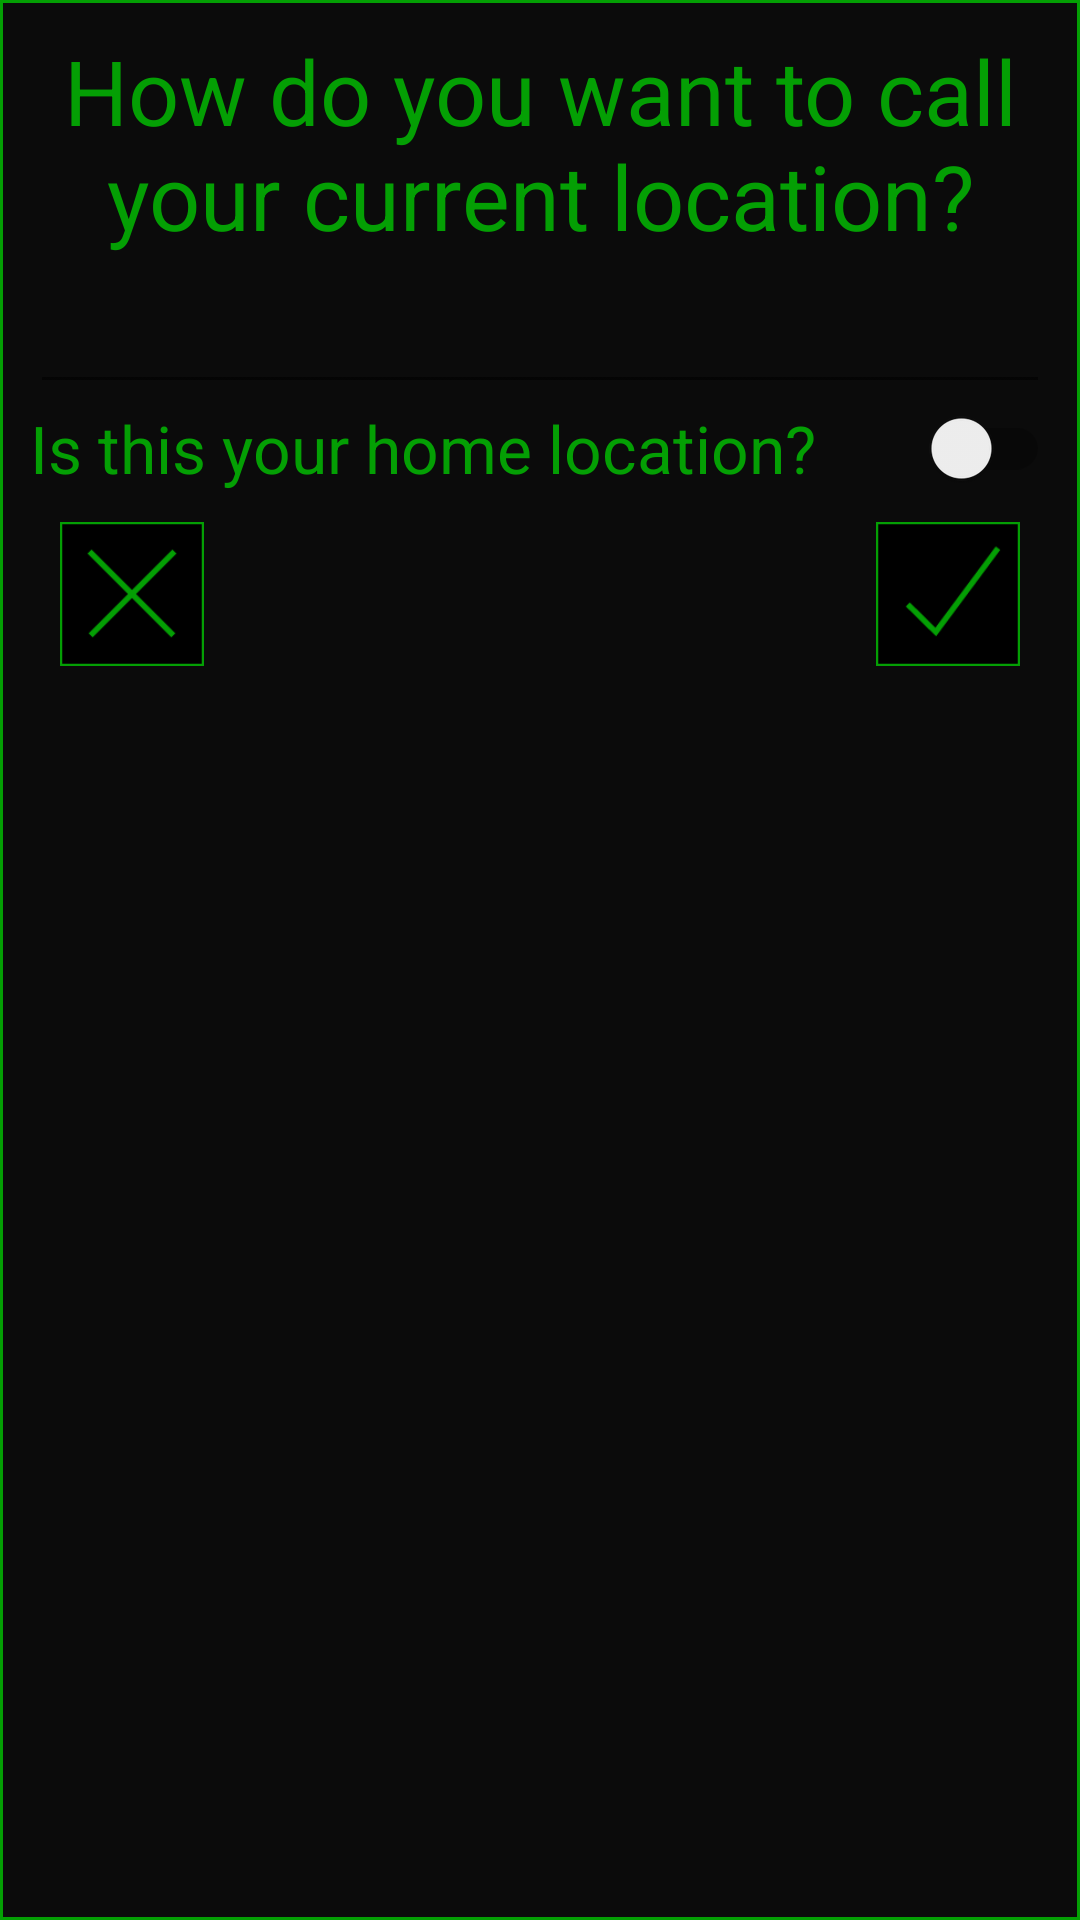

Locate icon controls on the screen. Image size 1080*1920, boxes as (left=x1, top=y1, right=x2, bottom=y2).
No: (left=60, top=522, right=204, bottom=666)
Yes: (left=876, top=522, right=1020, bottom=666)
